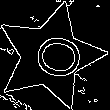O_W: (19, 28, 81, 83)
